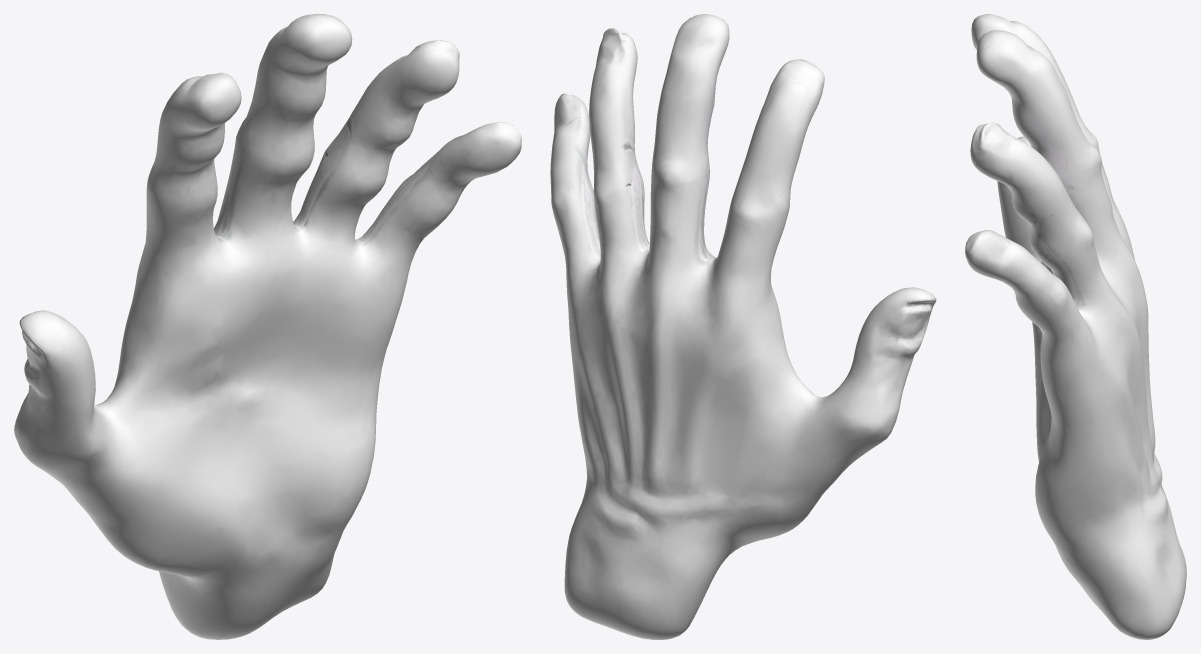
3 renders of one model, left to right at view 1: azimuth 30°, elevation 25°; view 2: azimuth 150°, elevation 25°; view 3: azimuth 270°, elevation 25°, orthographic. The views are drawn at different scales.
Visible parts, largest first — view 1: Mesh1; view 2: Mesh1; view 3: Mesh1.
Part boxes in pixels (<box>): Mesh1: <box>14,14,521,639</box>; Mesh1: <box>550,14,936,639</box>; Mesh1: <box>965,14,1186,639</box>.
Bounding box in the file's own units: 146 × 199 × 67.77.
Materials: 1 (1 with a texture image).
